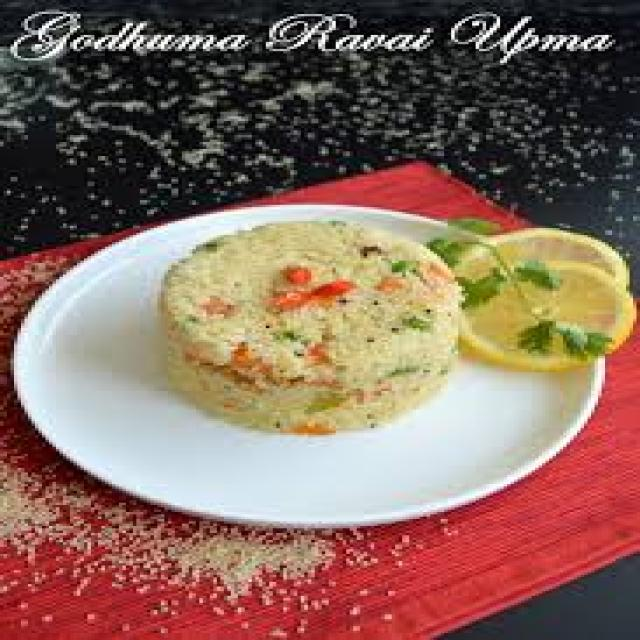UPMA: (161, 219, 458, 431)
